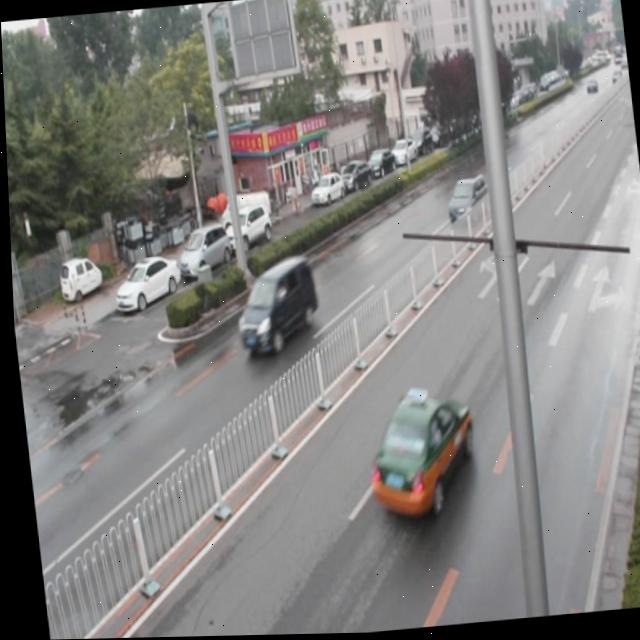car: (359, 386, 474, 520), (227, 256, 318, 355), (440, 175, 489, 227)
